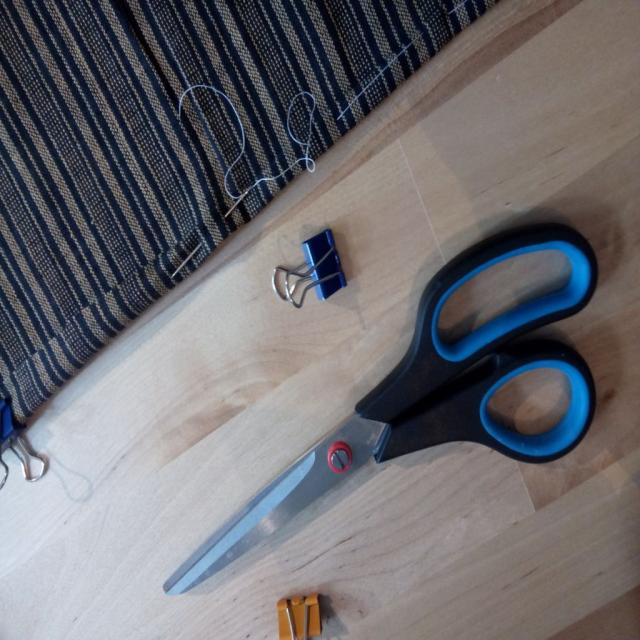scissors: (162, 221, 598, 596)
